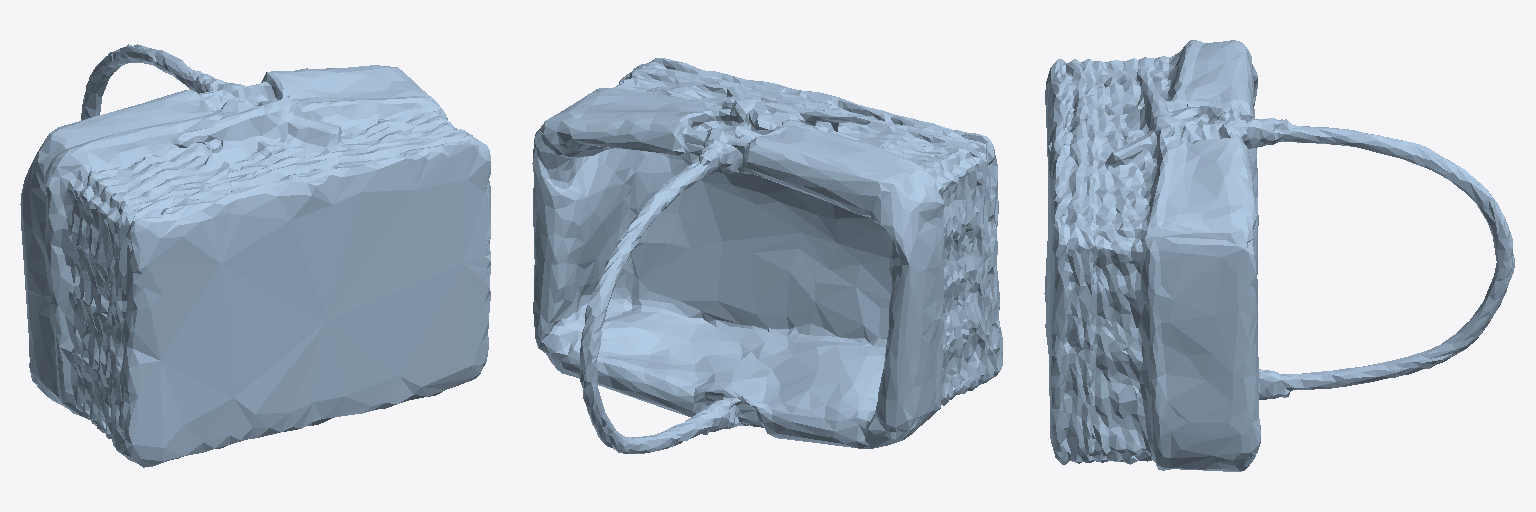
The robot description file, URDF, robot "PicnicBasket.urdf":
<?xml version="1.0" ?>
<robot name="PicnicBasket.urdf">
  <dynamics damping="0.5" friction="0.9"/>
  <link name="baseLink">
    <contact>
      <lateral_friction value="0.9"/>
      <rolling_friction value="0.5"/>
      <stiffness value="30000"/>
      <damping value="1000"/>
    </contact>
    <visual>
      <origin rpy="0 0 0" xyz="0 0 0"/>
      <geometry>
        <mesh filename="objects/PicnicBasket/PicnicBasket.obj" scale="1.0 1.0 1.0"/>
      </geometry>
      <material name="mat">
        <color rgba="0.7 0.8 0.9 1"/>
      </material>
    </visual>
    <collision>
      <origin rpy="0 0 0" xyz="0 0 0"/>
      <geometry>
        <mesh filename="objects/PicnicBasket/PicnicBasket.obj" scale="1.0 1.0 1.0"/>
      </geometry>
    </collision>
  </link>
</robot>

--- What the picture shows (computed from the rendered views, not written in the file) ---
3 views of the same robot in one strip: view 1: azimuth 30°, elevation 25°; view 2: azimuth 150°, elevation 25°; view 3: azimuth 270°, elevation 25° (orthographic).
Model PicnicBasket.urdf with 1 links and 0 joints (none), rooted at baseLink, posed every joint at zero.
Visible links, largest first — view 1: baseLink; view 2: baseLink; view 3: baseLink.
Link boxes in pixels (left/top/right/bottom): baseLink: left=20, top=44, right=490, bottom=467; baseLink: left=532, top=58, right=1002, bottom=453; baseLink: left=1044, top=40, right=1514, bottom=471.
Bounding box of the posed robot: 0.3641 × 0.3825 × 0.2705 m (x, y, z).
Meshes: 1 distinct files referenced, 1 mesh visuals loaded (1 OBJ).
